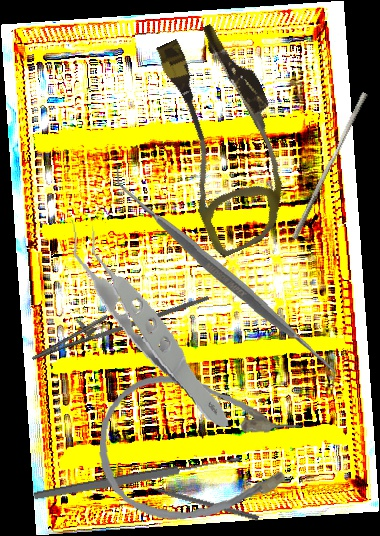Cannula: (130, 15, 319, 260), (94, 369, 306, 532)
Needle Holder: (25, 262, 210, 382)
Pusher: (291, 89, 369, 243), (136, 479, 260, 522)
Spatula Surgical: (111, 166, 340, 386)
Surgical Spoon: (32, 453, 242, 503)
Tissue Forceps: (68, 200, 231, 443)
